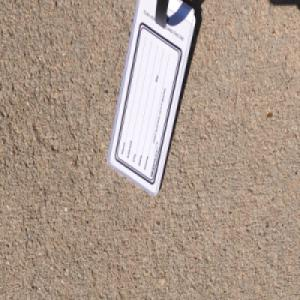LuggageTag: (106, 0, 196, 197)
